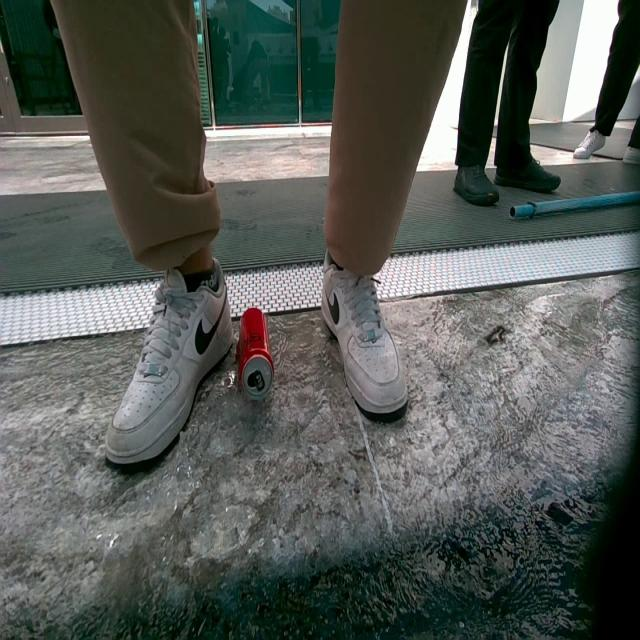Cans: (236, 307, 278, 407)
